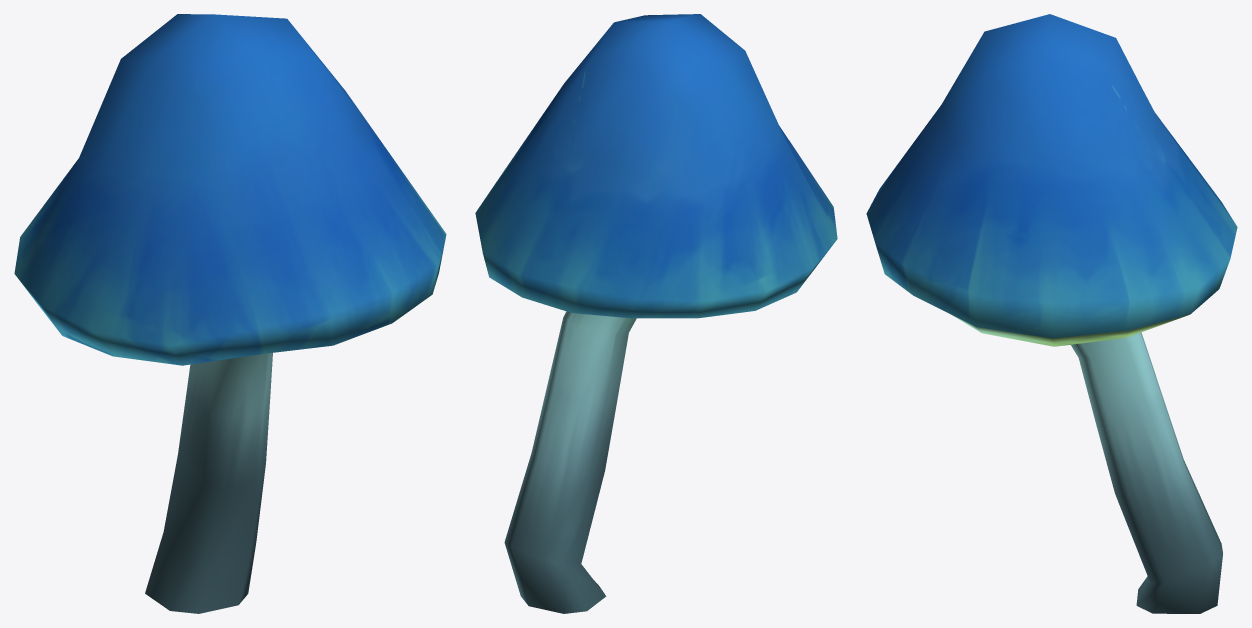
The model's file is MushroomPinch1_Deco.fbx.
3 renders of one model, left to right at view 1: azimuth 30°, elevation 25°; view 2: azimuth 150°, elevation 25°; view 3: azimuth 270°, elevation 25°, orthographic. The views are drawn at different scales.
Parts seen in each view (by area): view 1: MushroomPinch1; view 2: MushroomPinch1; view 3: MushroomPinch1.
Boxes of the visible parts, left/top/right/bottom form: MushroomPinch1: left=14, top=14, right=446, bottom=613; MushroomPinch1: left=475, top=14, right=837, bottom=613; MushroomPinch1: left=866, top=14, right=1237, bottom=613.
Bounding box in the file's own units: 7.49 × 12.34 × 7.4.
